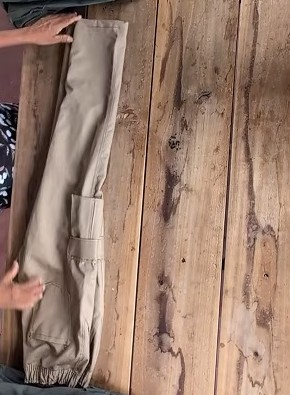TROUSER: (52, 87, 254, 347)
